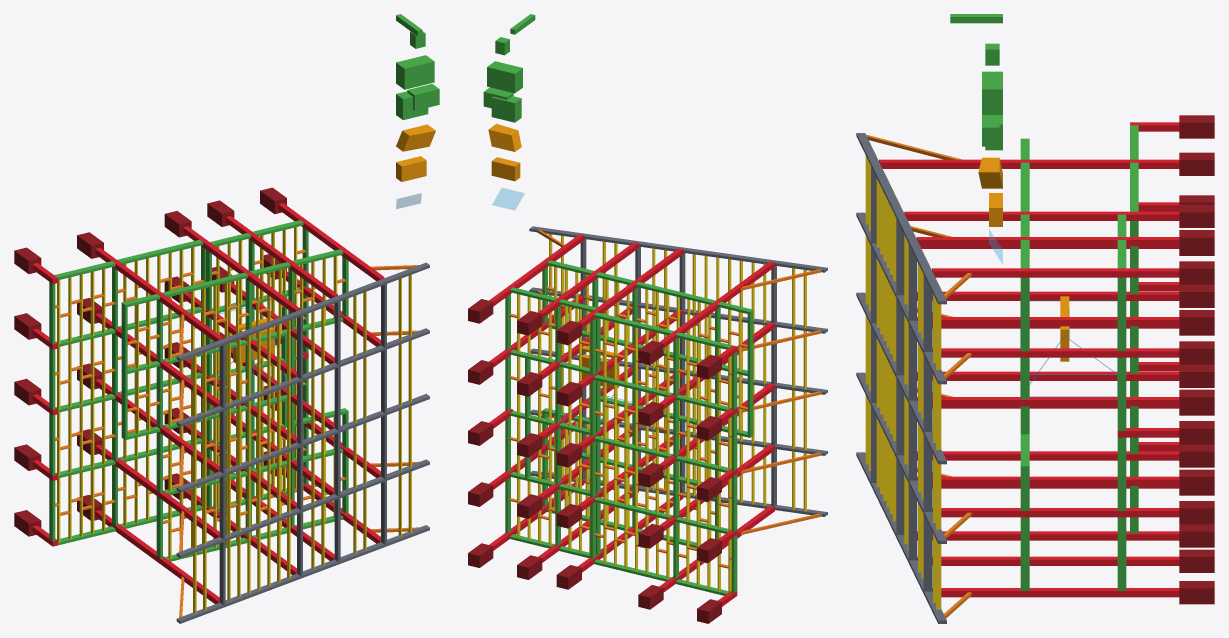
File: tinker.obj
The picture shows the model from 3 angles, left to right: view 1: azimuth 30°, elevation 25°; view 2: azimuth 150°, elevation 25°; view 3: azimuth 270°, elevation 25°; orthographic projection. The views are drawn at different scales.
Parts seen in each view (by area): view 1: obj_1, obj_420, obj_2, obj_20, obj_15, obj_3, obj_421, obj_4, obj_11, obj_6, obj_419, obj_7 (+10 smaller); view 2: obj_1, obj_420, obj_2, obj_421, obj_3, obj_4, obj_419, obj_20, obj_15, obj_7, obj_21, obj_12 (+11 smaller); view 3: obj_1, obj_2, obj_3, obj_4, obj_9, obj_18, obj_23, obj_13, obj_17, obj_22, obj_8, obj_16 (+54 smaller).
Boxes of the visible parts, bbox=[...] form: obj_1: bbox=[95, 247, 222, 341]; obj_420: bbox=[396, 84, 439, 119]; obj_2: bbox=[183, 226, 300, 312]; obj_20: bbox=[95, 510, 219, 603]; obj_15: bbox=[95, 444, 219, 538]; obj_3: bbox=[225, 216, 337, 298]; obj_421: bbox=[396, 55, 434, 89]; obj_4: bbox=[278, 203, 384, 280]; obj_11: bbox=[95, 379, 219, 472]; obj_6: bbox=[95, 313, 219, 407]; obj_419: bbox=[396, 124, 435, 151]; obj_7: bbox=[183, 292, 296, 378]; obj_1: bbox=[659, 261, 774, 347]; obj_420: bbox=[483, 87, 521, 122]; obj_2: bbox=[578, 248, 683, 327]; obj_421: bbox=[487, 61, 522, 93]; obj_3: bbox=[538, 242, 638, 318]; obj_4: bbox=[489, 234, 584, 306]; obj_419: bbox=[488, 123, 521, 151]; obj_20: bbox=[659, 505, 774, 592]; obj_15: bbox=[659, 444, 774, 531]; obj_7: bbox=[578, 310, 683, 389]; obj_21: bbox=[578, 496, 683, 572]; obj_12: bbox=[578, 372, 683, 450]; obj_1: bbox=[879, 159, 1179, 168]; obj_2: bbox=[904, 211, 1179, 220]; obj_3: bbox=[916, 237, 1179, 246]; obj_4: bbox=[932, 268, 1179, 277]; obj_9: bbox=[932, 348, 1179, 357]; obj_18: bbox=[932, 508, 1179, 517]; obj_23: bbox=[932, 588, 1179, 597]; obj_13: bbox=[917, 397, 1179, 406]; obj_17: bbox=[917, 476, 1179, 485]; obj_22: bbox=[917, 556, 1179, 565]; obj_8: bbox=[917, 317, 1179, 326]; obj_16: bbox=[917, 451, 1179, 460].
Size of the model in its own units: 132 by 192 by 102.
